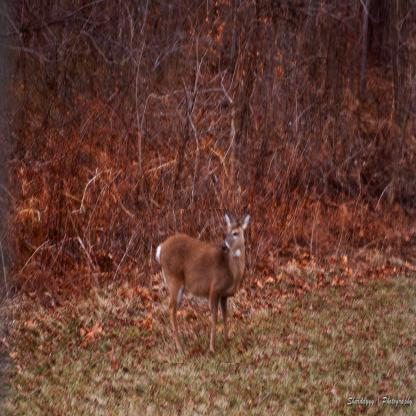Deer: (152, 210, 251, 364)
